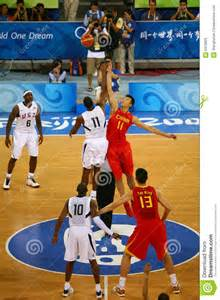basketball: (81, 34, 93, 46)
